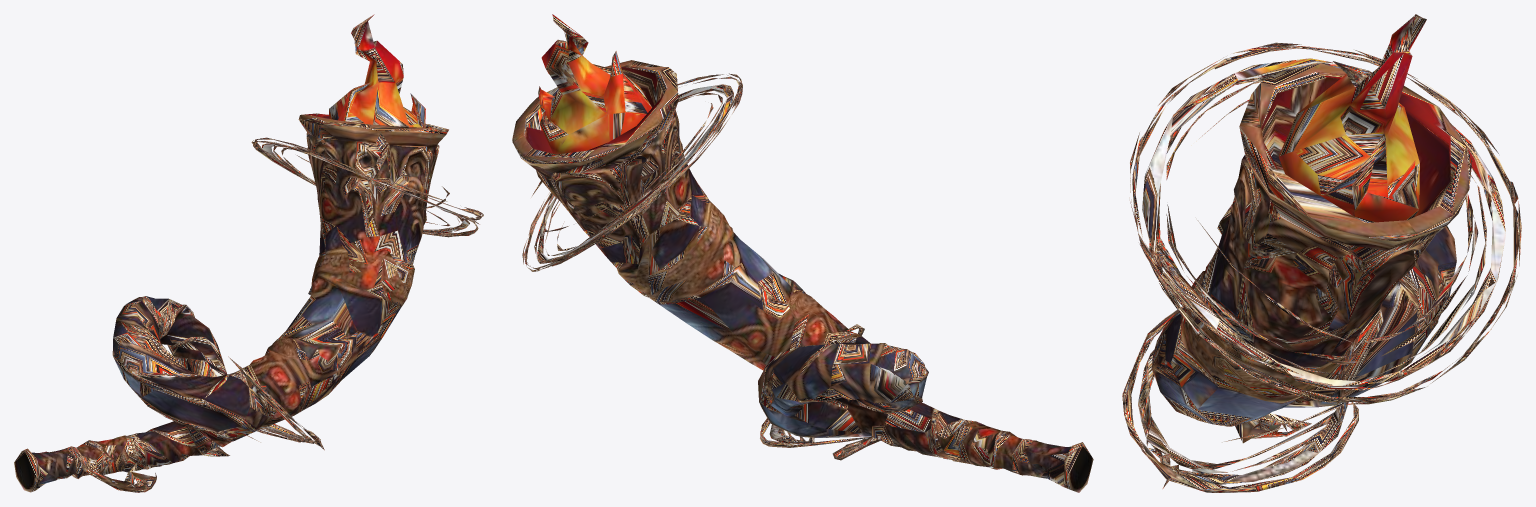
Rendered from war-horn-lite.glb.
3 views of the same model, side by side, from view 1: azimuth 30°, elevation 25°; view 2: azimuth 150°, elevation 25°; view 3: azimuth 270°, elevation 25° (orthographic). The views are drawn at different scales.
Parts seen in each view (by area): view 1: node_0; view 2: node_0; view 3: node_0.
Boxes of the visible parts, x1,y1,x2,y2 form: node_0: [14, 14, 483, 492]; node_0: [512, 14, 1093, 492]; node_0: [1122, 14, 1521, 492].
Size of the model in its own units: 0.9777 by 0.733 by 0.4513.
Materials: 1 (1 with a texture image).
